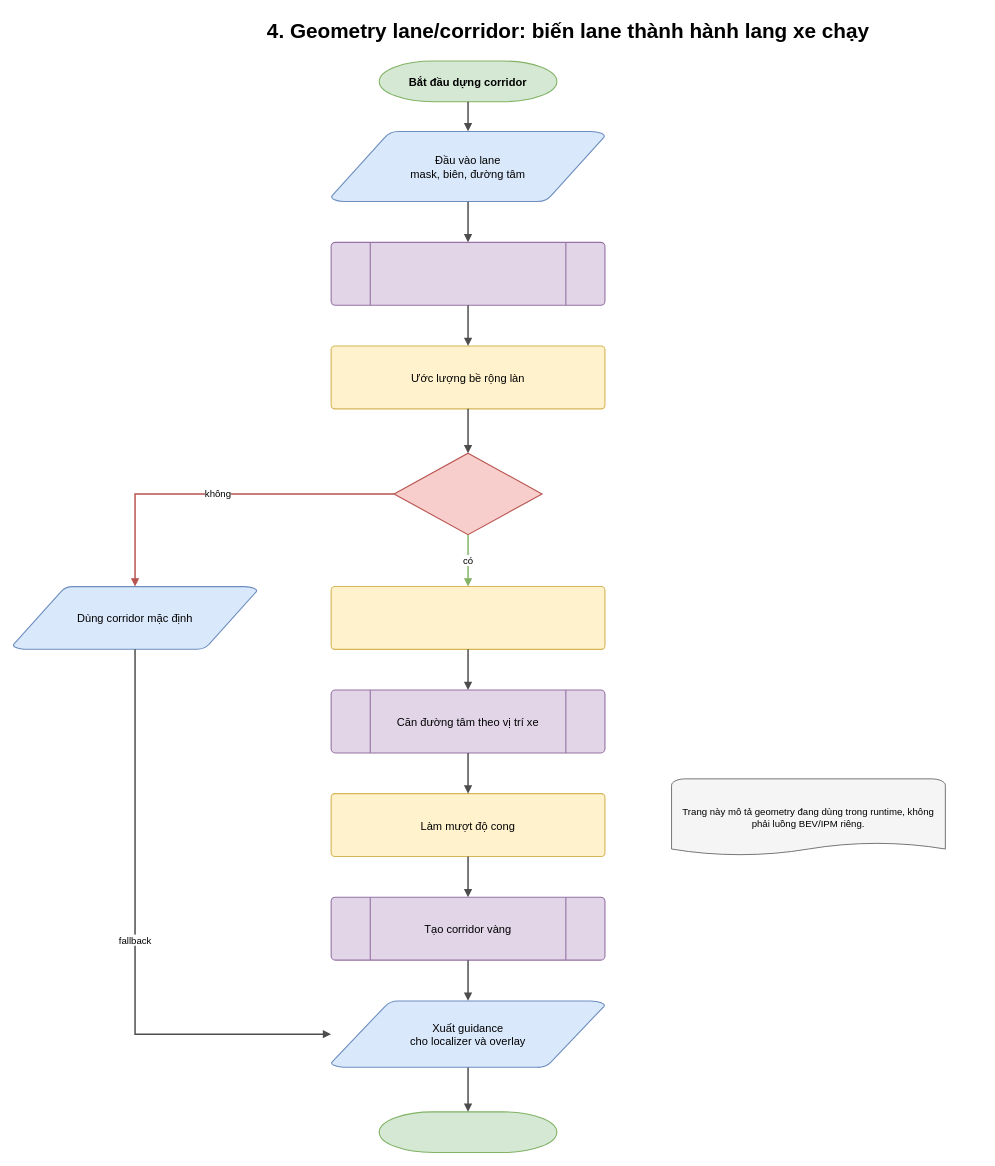
Image size: 995x1166. Some labels were removed from this diagram. The centre of each missing label's shape, as x and y in pixels:
Biên làn tin cậy?: (467,493)
Corridor sẵn sàng: (467,1132)
Giữ các biên phát hiện được: (467,618)
Tìm ứng viên biên làn: (467,273)
